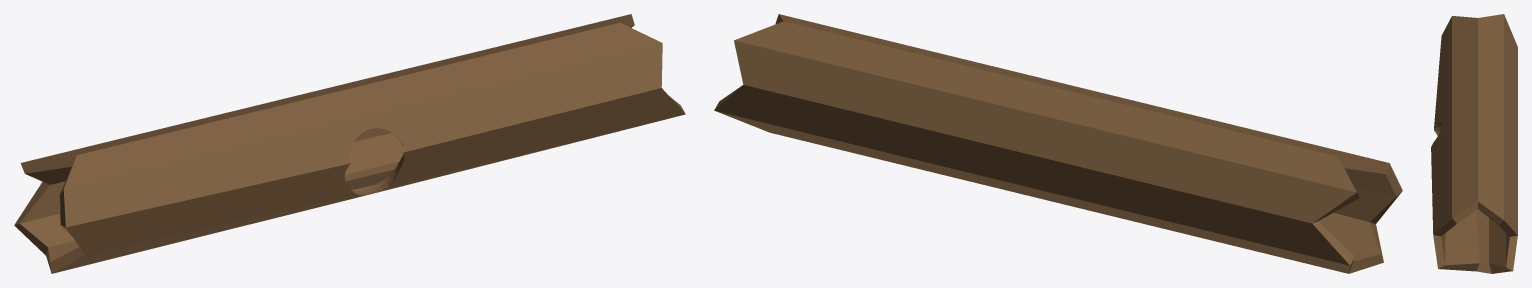
File: log full.fbx
The picture shows the model from 3 angles, left to right: view 1: azimuth 30°, elevation 25°; view 2: azimuth 150°, elevation 25°; view 3: azimuth 270°, elevation 25°; orthographic projection. The views are drawn at different scales.
Parts seen in each view (by area): view 1: Trunk; view 2: Trunk; view 3: Trunk.
Boxes of the visible parts, left/top/right/bottom form: Trunk: left=14, top=14, right=685, bottom=273; Trunk: left=714, top=14, right=1402, bottom=273; Trunk: left=1431, top=14, right=1517, bottom=273.
Size of the model in its own units: 1964 by 309 by 342.
